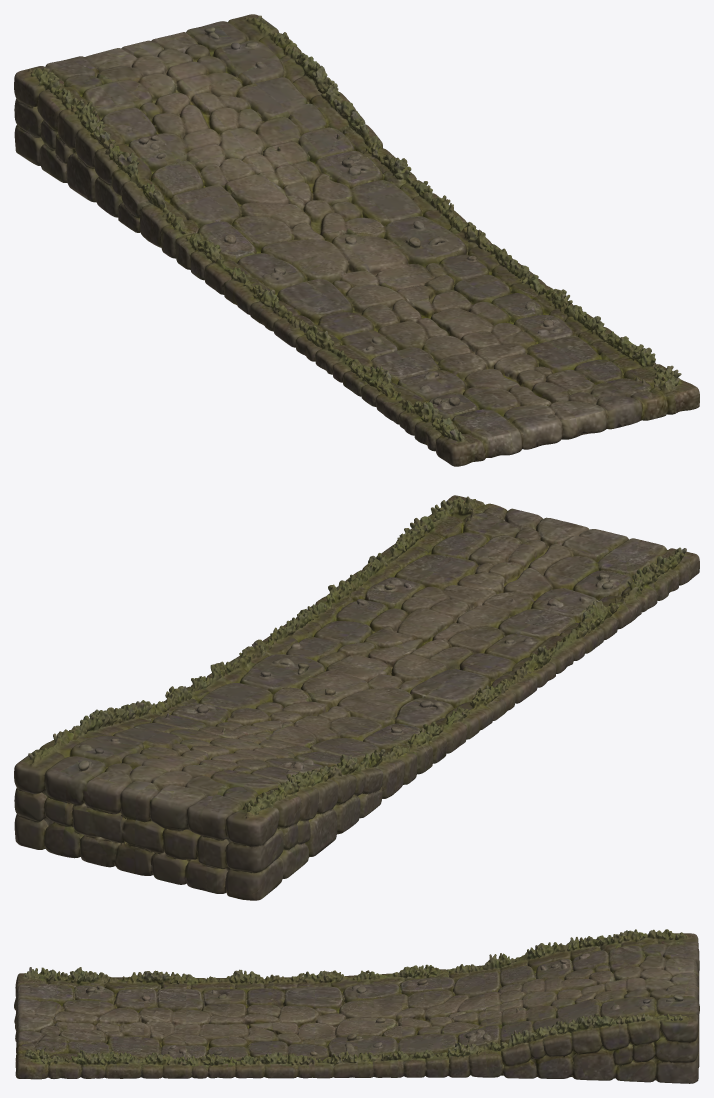
Rendered from Meshy_AI_road_uphill_0823031947_image-to-3d-texture.glb.
3 renders of one model, top to bottom at view 1: azimuth 30°, elevation 25°; view 2: azimuth 150°, elevation 25°; view 3: azimuth 270°, elevation 25°, orthographic. The views are drawn at different scales.
Visible parts, largest first — view 1: mesh_node; view 2: mesh_node; view 3: mesh_node.
Boxes of the visible parts, x1,y1,x2,y2 form: mesh_node: (14,14,699,466); mesh_node: (14,495,699,900); mesh_node: (14,929,699,1083).
Bounding box in the file's own units: 0.6137 × 0.207 × 1.9.
1 material, 1 textured.
